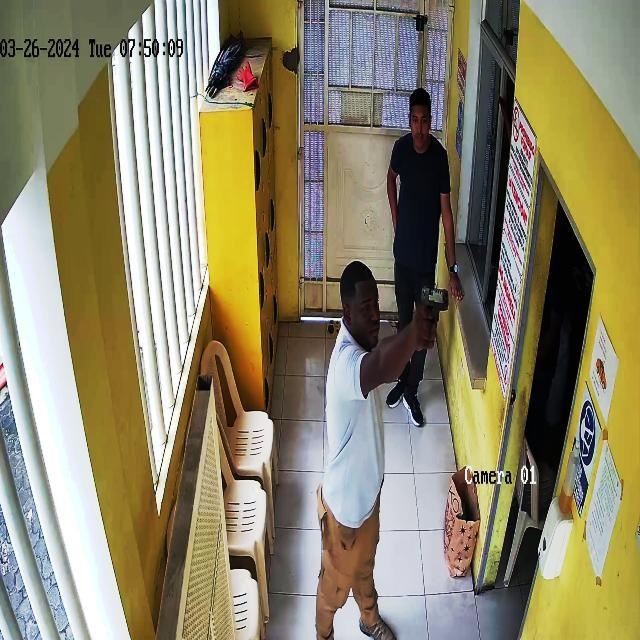Gun: (413, 272, 457, 340)
